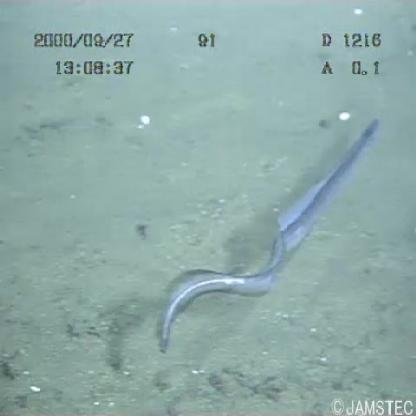Bio: (154, 113, 382, 358)
